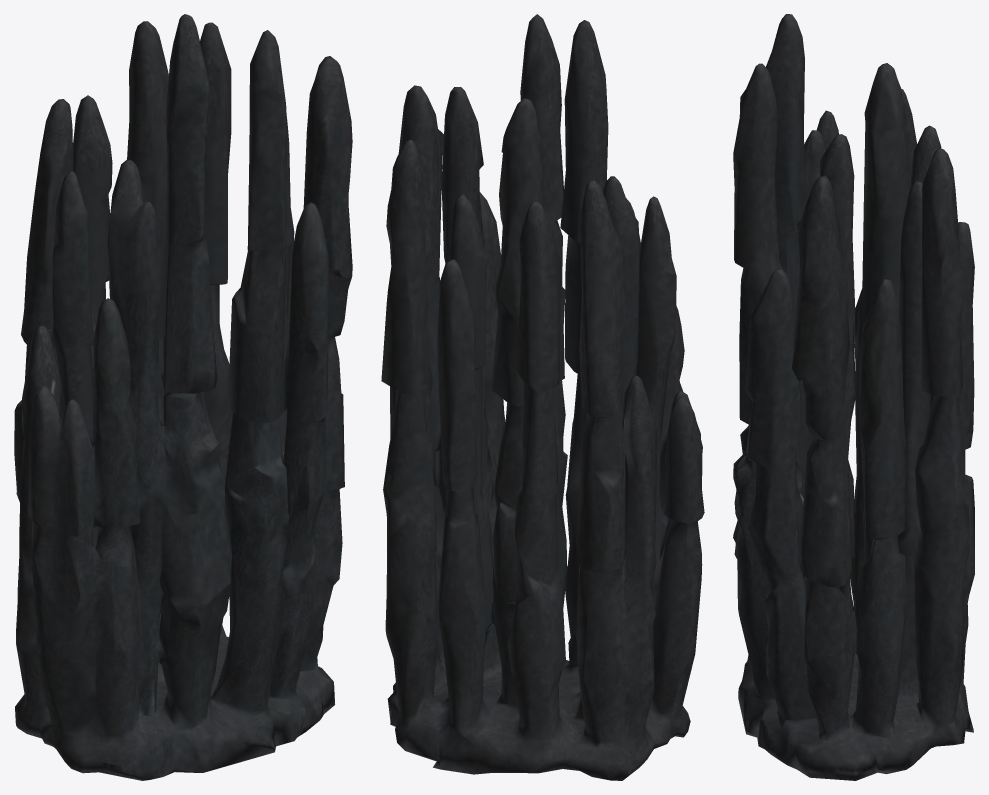
The model's file is stalagmite.glb.
The picture shows the model from 3 angles, left to right: view 1: azimuth 30°, elevation 25°; view 2: azimuth 150°, elevation 25°; view 3: azimuth 270°, elevation 25°; orthographic projection. The views are drawn at different scales.
Parts seen in each view (by area): view 1: Mesh_0; view 2: Mesh_0; view 3: Mesh_0.
Boxes of the visible parts, x1,y1,x2,y2 form: Mesh_0: (14, 14, 352, 780); Mesh_0: (381, 14, 704, 780); Mesh_0: (733, 14, 974, 780).
Bounding box in the file's own units: 0.8623 × 1.9 × 0.6022.
1 material, 1 textured.
